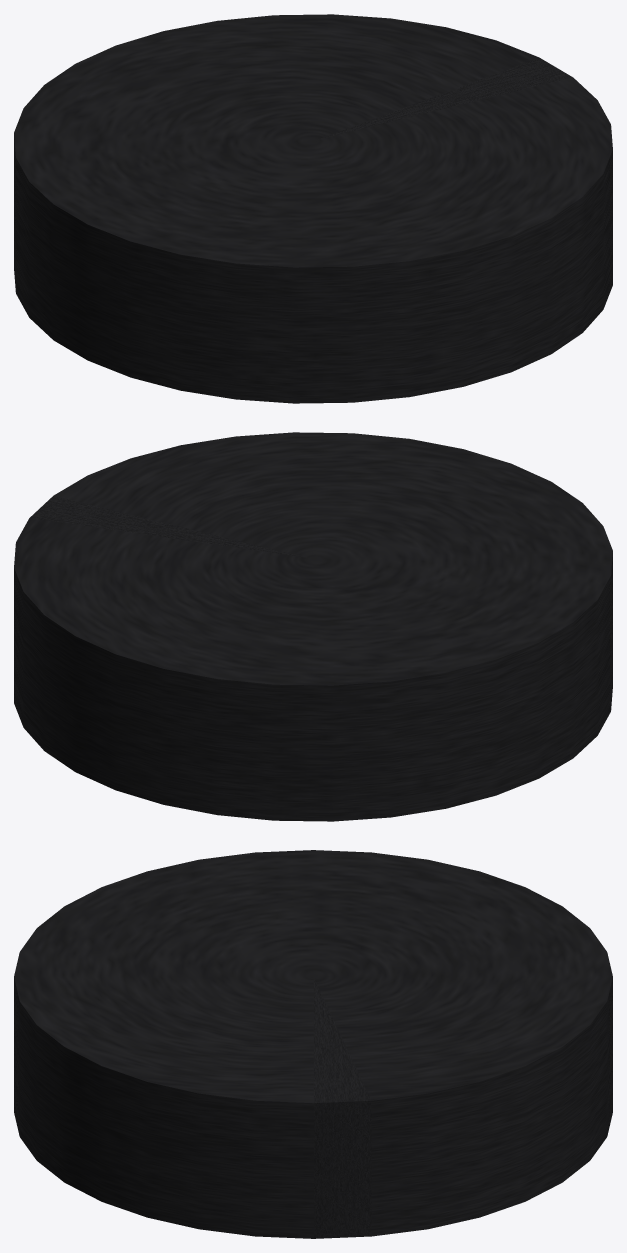
The model's file is wheel_std.obj.
The picture shows the model from 3 angles, top to bottom: view 1: azimuth 30°, elevation 25°; view 2: azimuth 150°, elevation 25°; view 3: azimuth 270°, elevation 25°; orthographic projection.
Size of the model in its own units: 0.2 by 0.05 by 0.2.
Materials: 3 (3 with a texture image).
